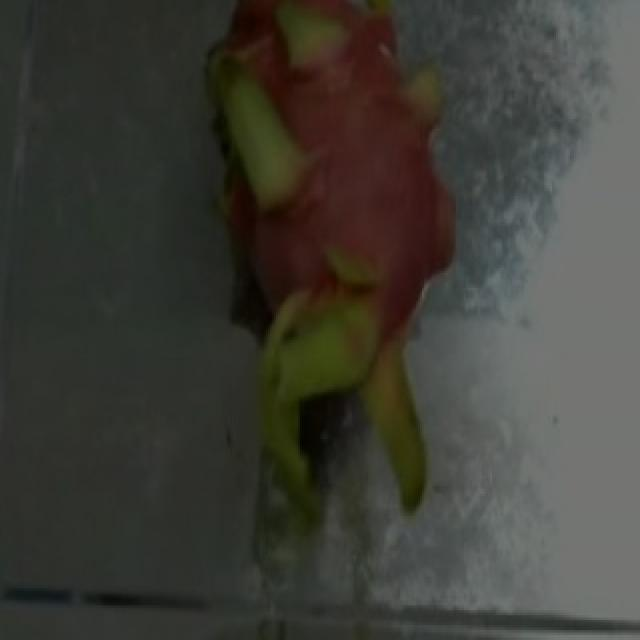fruit: (126, 0, 500, 404)
